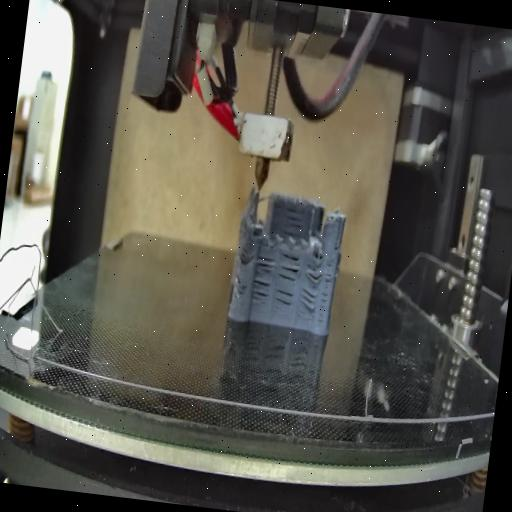cracks: (278, 202, 308, 236), (316, 264, 332, 326), (278, 252, 300, 284), (250, 280, 272, 308), (298, 289, 320, 314), (302, 260, 323, 286), (273, 286, 293, 313), (255, 254, 275, 276), (238, 244, 250, 266), (233, 275, 245, 292), (332, 237, 340, 252)
